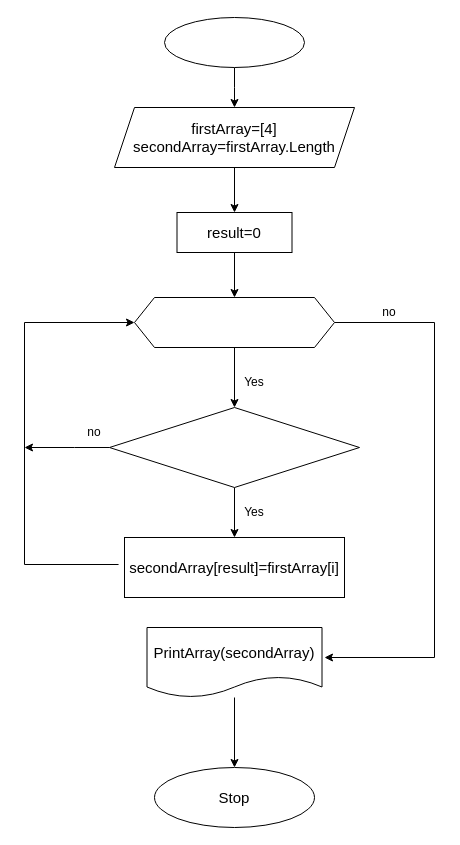
Image size: 460x845. Some labels were removed from this diagram. The centre of each missing label's shape, as x and y in pixels:
"firstArray[i].Length<=3" belongs at point (234, 447).
"i=o; i<firstArray.Length" belongs at point (234, 322).
"Start" belongs at point (234, 42).
